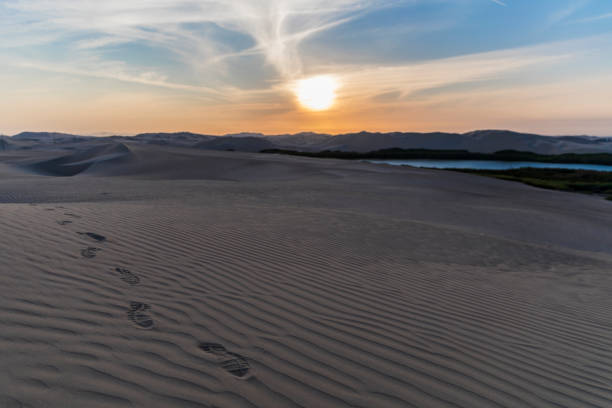human_footprint: (198, 342, 250, 378), (127, 301, 153, 328), (115, 267, 139, 284), (78, 232, 106, 241), (81, 247, 101, 258), (56, 220, 71, 225)
